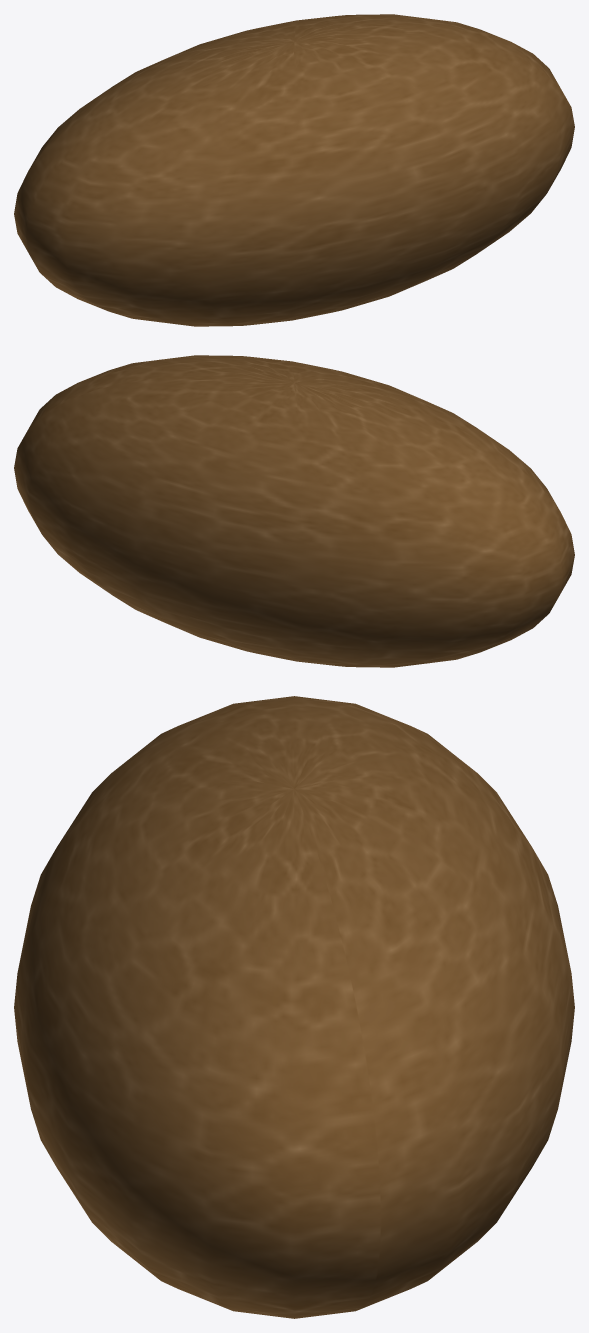
File: Mud-Final.fbx
3 views of the same model, one above another, from view 1: azimuth 30°, elevation 25°; view 2: azimuth 150°, elevation 25°; view 3: azimuth 270°, elevation 25° (orthographic). The views are drawn at different scales.
Visible parts, largest first — view 1: pSphere3; view 2: pSphere3; view 3: pSphere3.
Part boxes in pixels (x1,y1,x2,y2): pSphere3: [14, 14, 574, 326]; pSphere3: [14, 355, 574, 667]; pSphere3: [14, 696, 574, 1318].
Size of the model in its own units: 0.8939 by 0.4103 by 0.4775.
